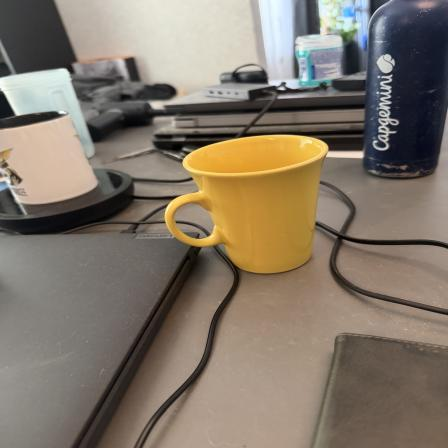blue_bottle: (362, 0, 448, 178)
yellow_cup: (160, 134, 331, 278)
